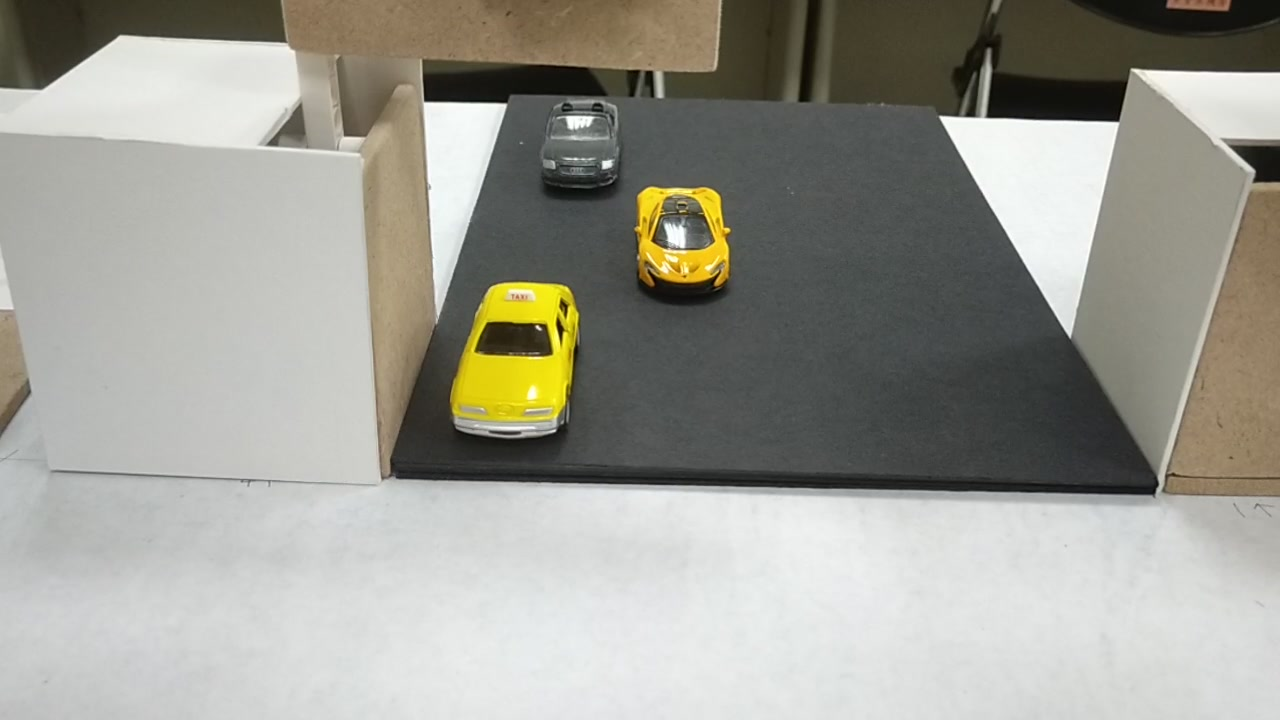car: (449, 274, 581, 448), (639, 183, 731, 295), (543, 100, 616, 191)
